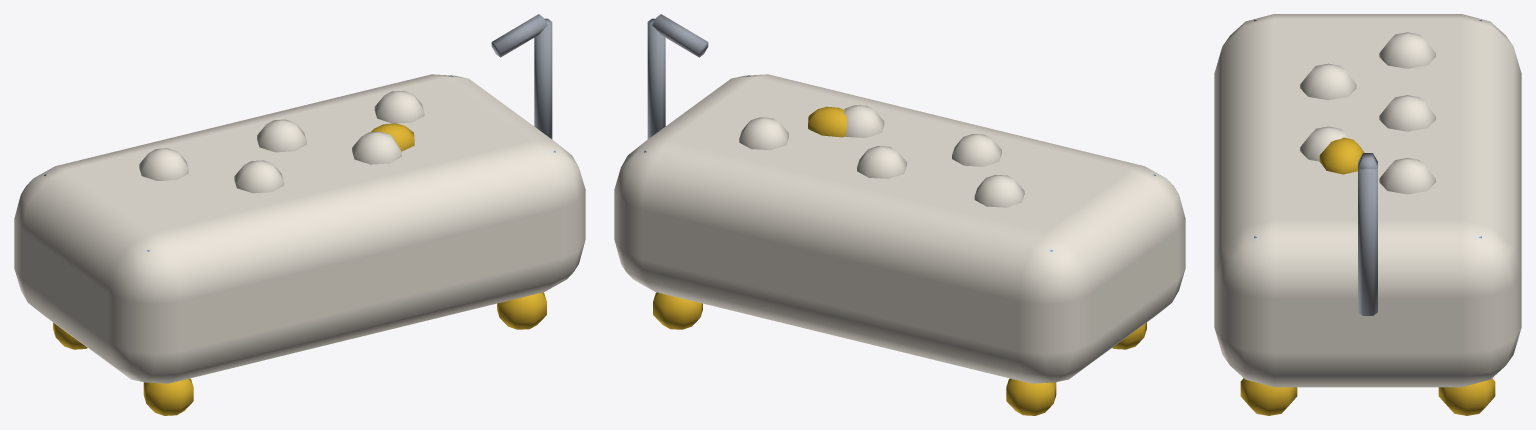
Rendered from bathtub.glb.
3 views of the same model, side by side, from view 1: azimuth 30°, elevation 25°; view 2: azimuth 150°, elevation 25°; view 3: azimuth 270°, elevation 25° (orthographic). The views are drawn at different scales.
Parts seen in each view (by area): view 1: bathtub; view 2: bathtub; view 3: bathtub.
Part boxes in pixels (left/top/right/bottom): bathtub: left=14, top=14, right=585, bottom=415; bathtub: left=614, top=14, right=1185, bottom=415; bathtub: left=1214, top=14, right=1521, bottom=415.
Bounding box in the file's own units: 1.24 × 0.6404 × 0.62.
